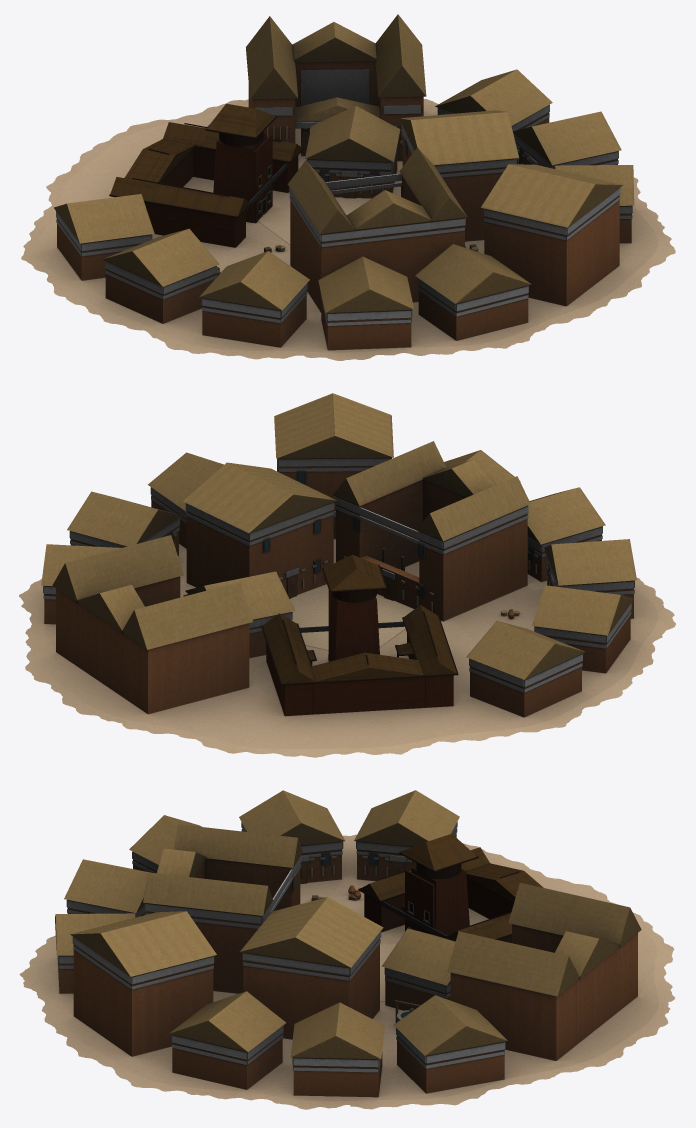
Rendered from kingdoms-town-medium-b-westafrica.glb.
3 views of the same model, one above another, from view 1: azimuth 30°, elevation 25°; view 2: azimuth 150°, elevation 25°; view 3: azimuth 270°, elevation 25° (orthographic).
Parts seen in each view (by area): view 1: LOD0; view 2: LOD0; view 3: LOD0.
Boxes of the visible parts, left/top/right/bottom form: LOD0: left=21, top=14, right=675, bottom=360; LOD0: left=19, top=393, right=675, bottom=757; LOD0: left=19, top=790, right=675, bottom=1109.
Size of what is drawn, in the model's own units: 5.92 by 1.07 by 5.96.
3 materials, 3 textured.
